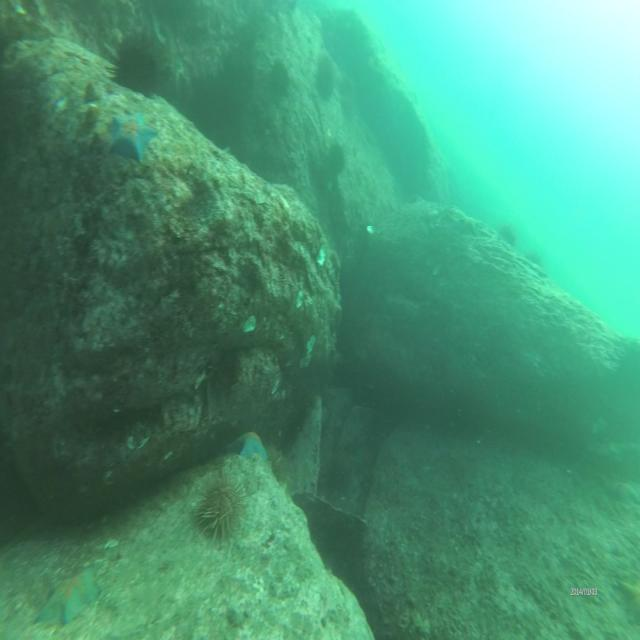echinus: (195, 468, 244, 541), (111, 34, 157, 98), (270, 56, 290, 98), (315, 54, 334, 98), (325, 140, 346, 176)
starfish: (38, 564, 102, 627), (106, 105, 157, 168), (227, 428, 268, 464)
